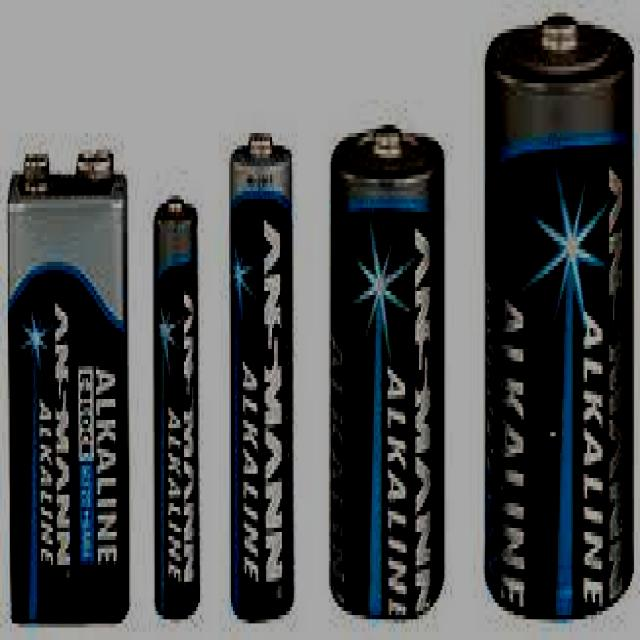9V: (5, 146, 130, 624)
AA: (228, 129, 294, 619)
AAA: (153, 191, 200, 615)
